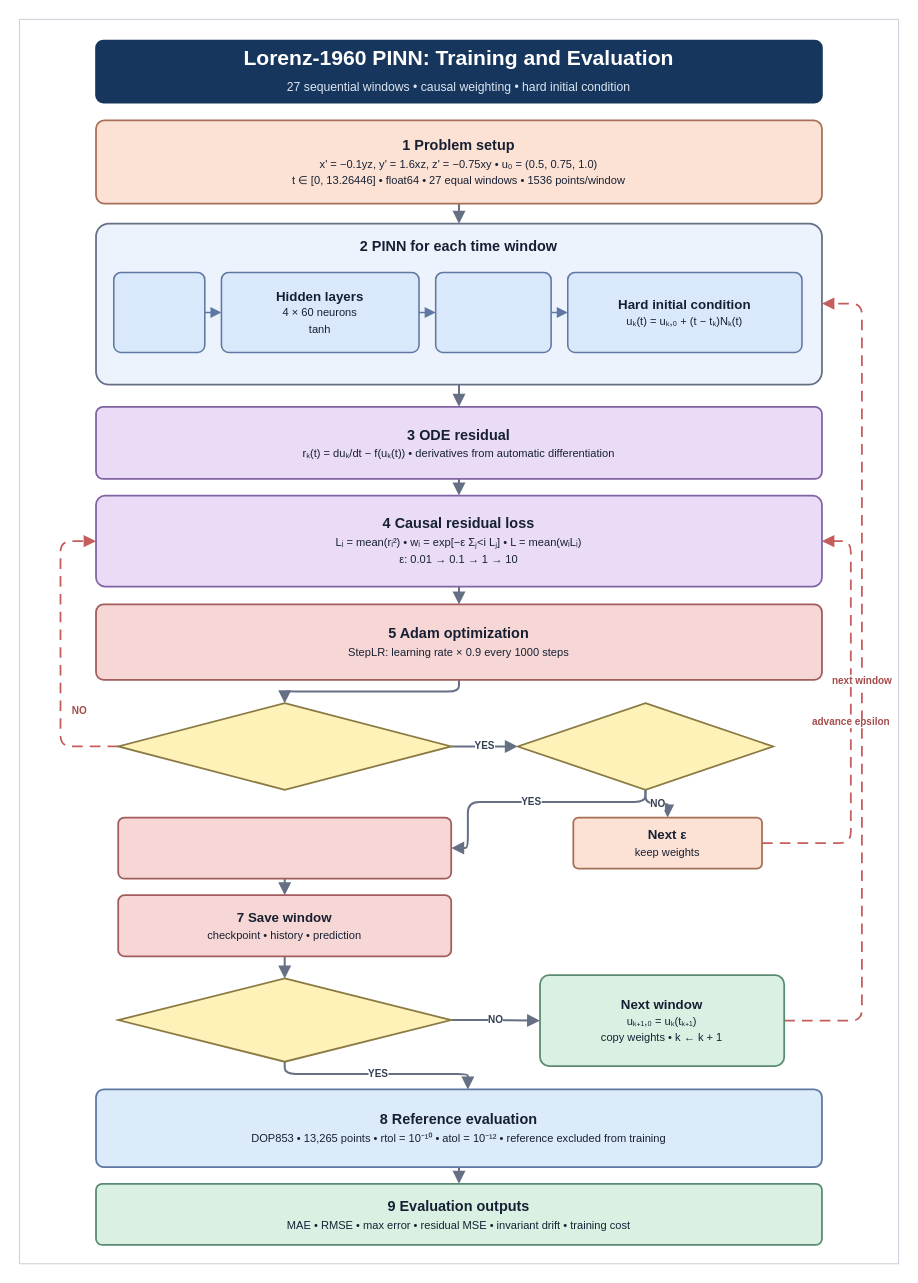
The diagram is 918 pixels wide and 1283 high, and some of its shapes have lost their labels. The centre of each missing label's shape, as x and y in pixels:
6 L-BFGS ≤1000 iterations • unweighted residual MSE: [284,847]
All ε values used?: [644,746]
Input time t: [158,312]
Last window? k = 27: [284,1019]
Output Nₖ(t) ∈ ℝ³: [492,312]
Stage complete? min(w) > 0.99 or 4000 steps: [284,746]
